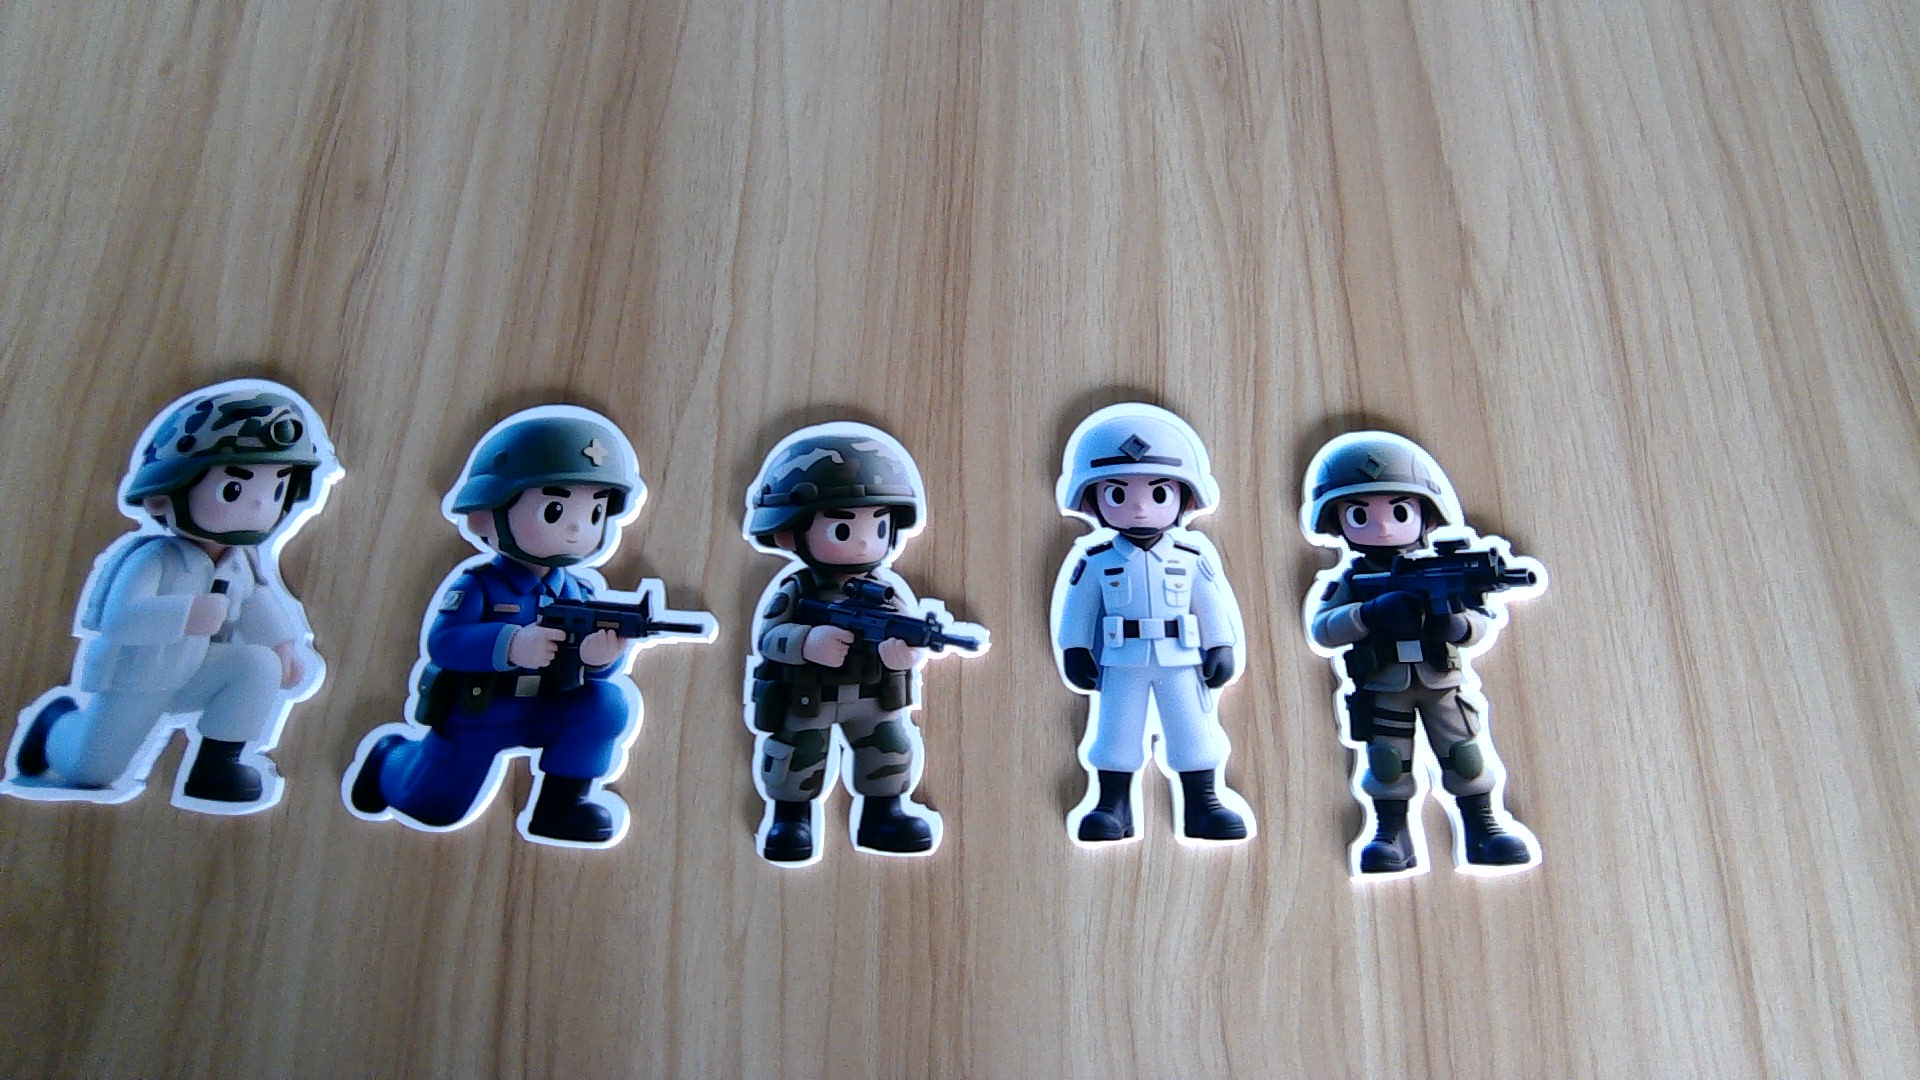人质: (1046, 525, 1259, 847)
友军: (1304, 555, 1553, 885), (735, 567, 989, 866)
敌人2: (338, 560, 695, 852)
